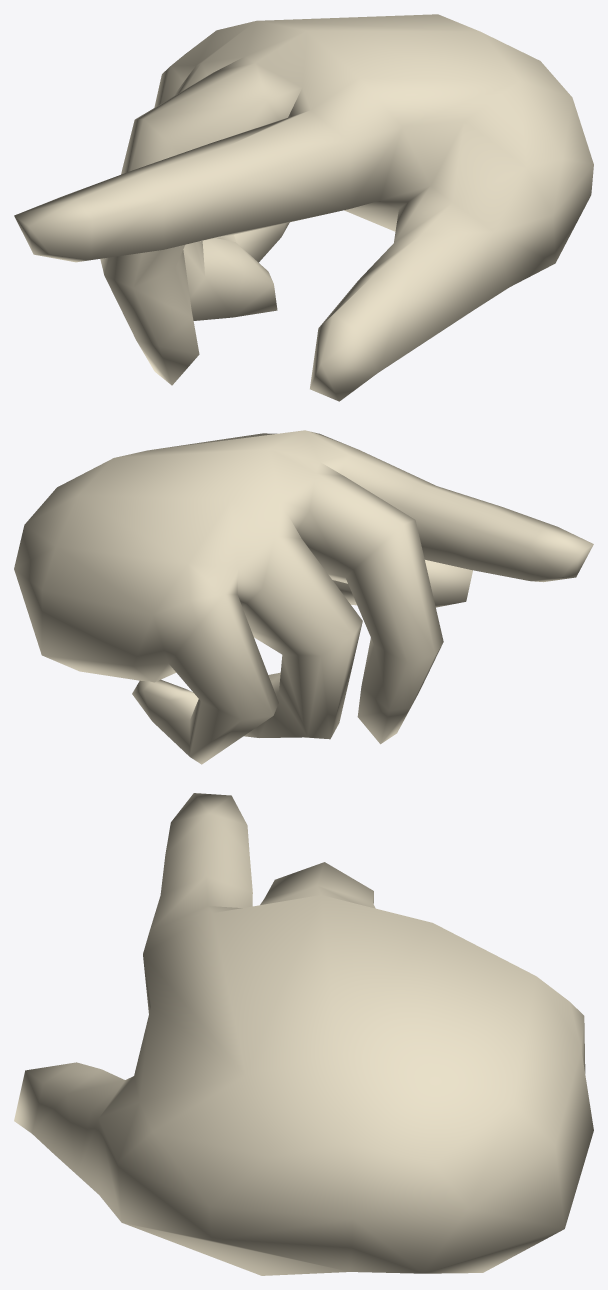
The model's file is F2_UI_3D_Hand_Move.dae.
3 renders of one model, top to bottom at view 1: azimuth 30°, elevation 25°; view 2: azimuth 150°, elevation 25°; view 3: azimuth 270°, elevation 25°, orthographic. The views are drawn at different scales.
Parts seen in each view (by area): view 1: vsn_mesh_0_; view 2: vsn_mesh_0_; view 3: vsn_mesh_0_.
Part boxes in pixels (<box>): vsn_mesh_0_: <box>14,14,593,401</box>; vsn_mesh_0_: <box>14,430,593,764</box>; vsn_mesh_0_: <box>14,793,593,1275</box>.
Size of the model in its own units: 1.64 by 0.8288 by 1.21.
Materials: 1 (1 with a texture image).
